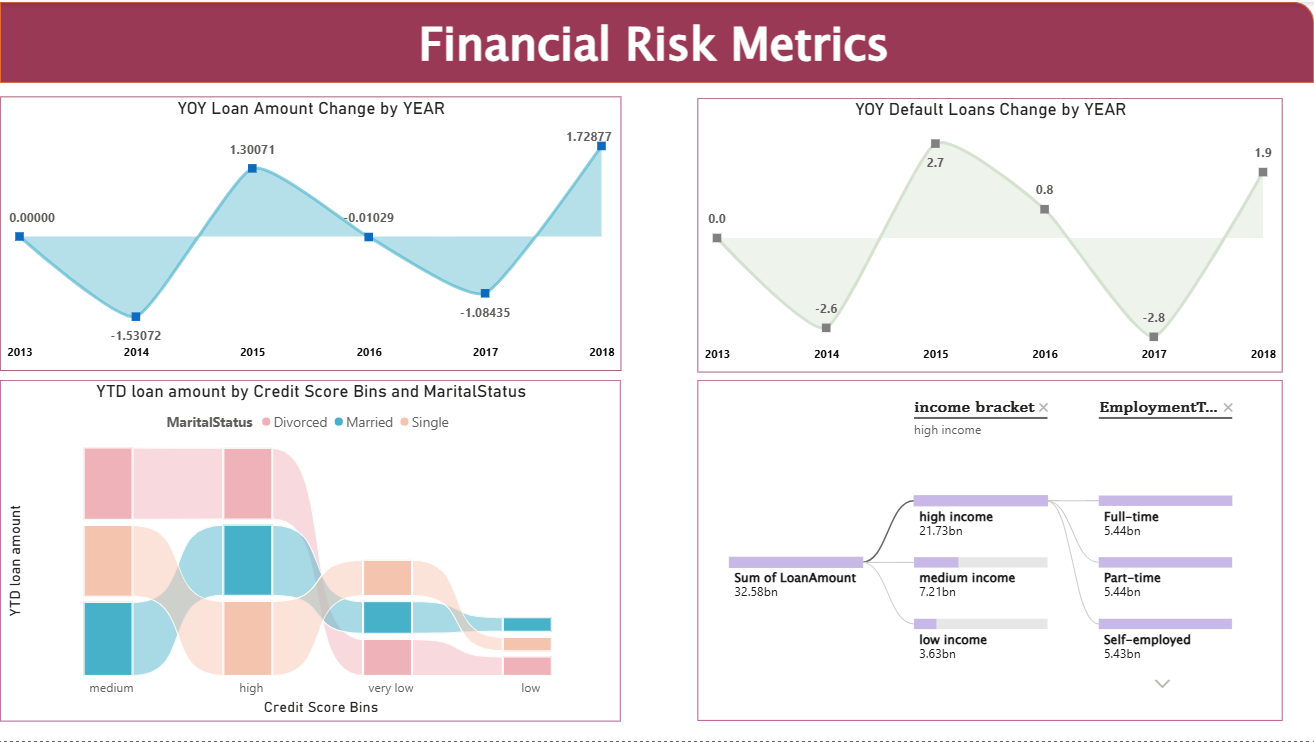

What the dashboard file says about the page in this screenshot:
{"tool":"powerbi","page":{"name":"Financial Risk Metrics","canvas":[1280,720],"ordinal":2},"visuals":[{"type":"shape","box":[0,0,1280.2,78.9],"z":0},{"type":"lineChart","fields":{"Category":["Loan_default.YEAR"],"Y":["measures Table 3 (2).YOY Loan Amount Change"]},"box":[0,92.1,605,267.4],"z":1000},{"type":"lineChart","fields":{"Category":["Loan_default.YEAR"],"Y":["measures Table 3 (2).YOY Default Loans Change"]},"box":[679.6,93.5,570,267.4],"z":2000},{"type":"ribbonChart","fields":{"Category":["Loan_default.Credit Score Bins"],"Y":["measures Table 3 (2).YTD loan amount"],"Series":["Loan_default.MaritalStatus"]},"box":[0,368.6,604.8,332.3],"z":3000},{"type":"decompositionTreeVisual","fields":{"Analyze":["Sum(Loan_default.LoanAmount)"],"ExplainBy":["Loan_default.income bracket","Loan_default.EmploymentType"]},"box":[680,369,570,332],"z":4000}]}

Visuals, with their boxes in screenshot pixels (x1, y1, x2, y2), scaled from the page's 1280x720 canvas onto the 1314x742 screenshot:
shape: <box>0,0,1313,81</box>
lineChart - Loan_default.YEAR x measures Table 3 (2).YOY Loan Amount Change: <box>0,95,621,370</box>
lineChart - Loan_default.YEAR x measures Table 3 (2).YOY Default Loans Change: <box>698,96,1283,372</box>
ribbonChart - Loan_default.Credit Score Bins x measures Table 3 (2).YTD loan amount: <box>0,380,621,722</box>
decompositionTreeVisual - Sum(Loan_default.LoanAmount) x Loan_default.income bracket: <box>698,380,1283,722</box>
